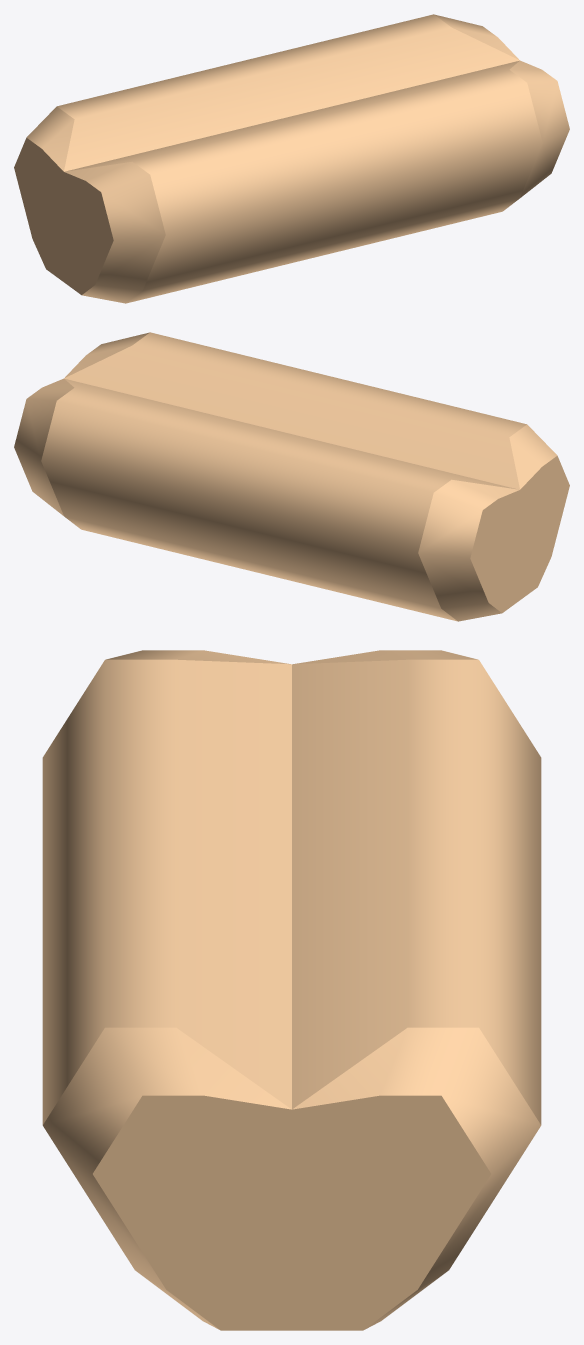
Rendered from hotDog.GLB.
3 renders of one model, top to bottom at view 1: azimuth 30°, elevation 25°; view 2: azimuth 150°, elevation 25°; view 3: azimuth 270°, elevation 25°, orthographic. The views are drawn at different scales.
Parts seen in each view (by area): view 1: hotDog; view 2: hotDog; view 3: hotDog.
Part boxes in pixels (x1,y1,x2,y2): hotDog: (14, 14, 569, 303); hotDog: (14, 332, 569, 621); hotDog: (42, 650, 541, 1330).
Bounding box in the file's own units: 0.428 × 0.1316 × 0.2026.
